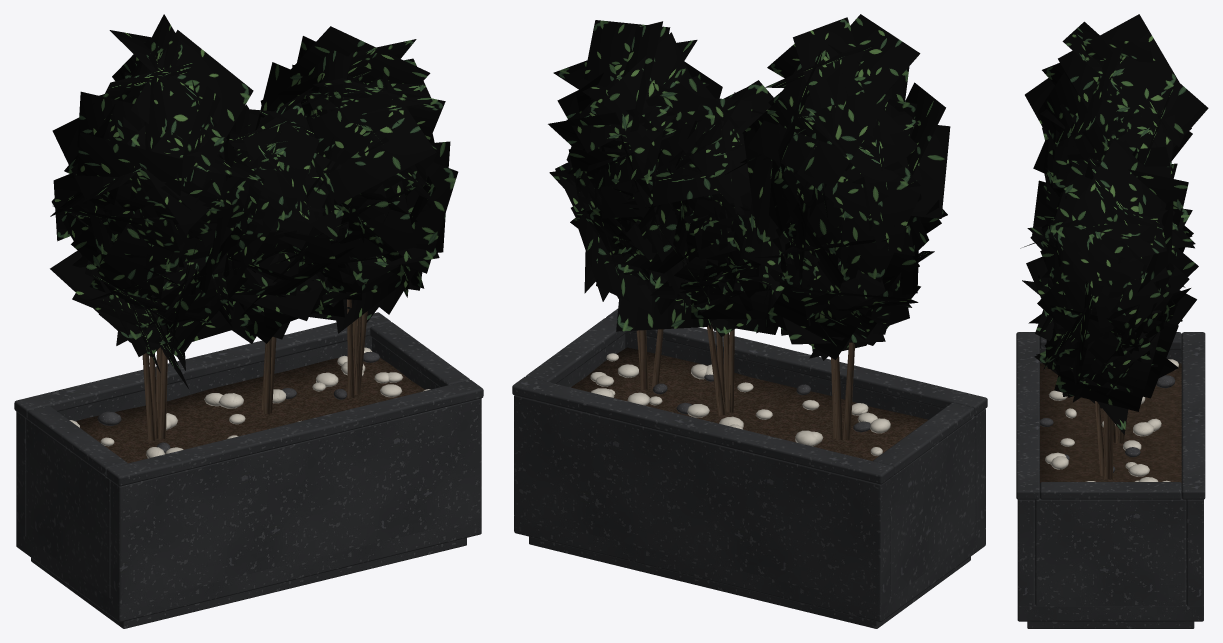
Rendered from planter_large.glb.
The picture shows the model from 3 angles, left to right: view 1: azimuth 30°, elevation 25°; view 2: azimuth 150°, elevation 25°; view 3: azimuth 270°, elevation 25°; orthographic projection. The views are drawn at different scales.
Parts seen in each view (by area): view 1: shrub_1_foliage_4, basin_stone_basalt_2, shrub_3_foliage_4, shrub_2_foliage_4, soil_soil_0, basin_stone_basalt_5, basin_stone_basalt_6, basin_stone_basalt_1, basin_stone_basalt_7, shrub_1_foliage_5, basin_stone_basalt_3, shrub_2_foliage_5 (+7 smaller); view 2: shrub_1_foliage_4, basin_stone_basalt_3, shrub_3_foliage_4, shrub_2_foliage_4, soil_soil_0, basin_stone_basalt_5, basin_stone_basalt_1, basin_stone_basalt_7, shrub_1_foliage_5, basin_stone_basalt_6, basin_stone_basalt_2, shrub_2_foliage_5 (+7 smaller); view 3: shrub_3_foliage_4, shrub_1_foliage_4, basin_stone_basalt_4, soil_soil_0, shrub_3_foliage_5, basin_stone_basalt_7, basin_stone_basalt_6, basin_stone_basalt_1, basin_stone_basalt_8, basin_stone_basalt_2, basin_stone_basalt_3, shrub_2_foliage_4 (+3 smaller).
Part boxes in pixels (box(x1,y1,x2,y2)): shrub_1_foliage_4: box(50, 14, 264, 388); basin_stone_basalt_2: box(110, 398, 481, 605); shrub_3_foliage_4: box(255, 26, 458, 333); shrub_2_foliage_4: box(225, 87, 354, 316); soil_soil_0: box(76, 356, 424, 463); basin_stone_basalt_5: box(26, 419, 110, 597); basin_stone_basalt_6: box(106, 380, 483, 486); basin_stone_basalt_1: box(16, 517, 481, 622); basin_stone_basalt_7: box(14, 312, 390, 418); shrub_1_foliage_5: box(72, 252, 252, 370); basin_stone_basalt_3: box(16, 335, 371, 535); shrub_2_foliage_5: box(232, 253, 344, 343); shrub_1_foliage_4: box(725, 14, 950, 358); basin_stone_basalt_3: box(514, 395, 890, 604); shrub_3_foliage_4: box(548, 20, 739, 331); shrub_2_foliage_4: box(626, 80, 783, 330); soil_soil_0: box(571, 347, 927, 461); basin_stone_basalt_5: box(890, 416, 975, 596); basin_stone_basalt_1: box(514, 516, 985, 622); basin_stone_basalt_7: box(512, 376, 893, 484); shrub_1_foliage_5: box(757, 242, 918, 360); basin_stone_basalt_6: box(606, 308, 987, 415); basin_stone_basalt_2: box(625, 331, 985, 534); shrub_2_foliage_5: box(650, 251, 778, 336); shrub_3_foliage_4: box(1020, 137, 1196, 434); shrub_1_foliage_4: box(1025, 14, 1208, 287); basin_stone_basalt_4: box(1035, 498, 1186, 606); soil_soil_0: box(1040, 363, 1181, 482); shrub_3_foliage_5: box(1044, 310, 1161, 411); basin_stone_basalt_7: box(1181, 332, 1205, 499); basin_stone_basalt_6: box(1016, 332, 1039, 499); basin_stone_basalt_1: box(1017, 604, 1203, 621); basin_stone_basalt_8: box(1040, 482, 1181, 499); basin_stone_basalt_2: box(1017, 499, 1035, 606); basin_stone_basalt_3: box(1186, 499, 1203, 606); shrub_2_foliage_4: box(1022, 158, 1198, 321).
Size of what is drawn, in the model's own units: 1.27 by 1.7 by 0.6105.
7 materials, 7 textured.
